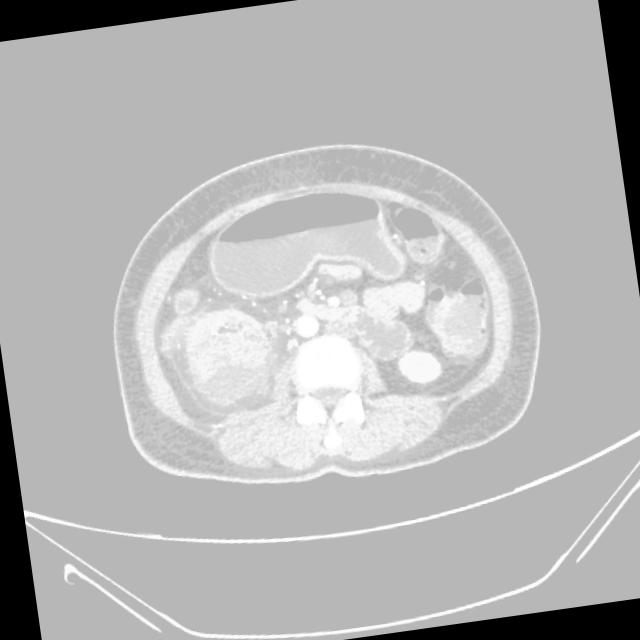TUMOR: (118, 203, 560, 429)
